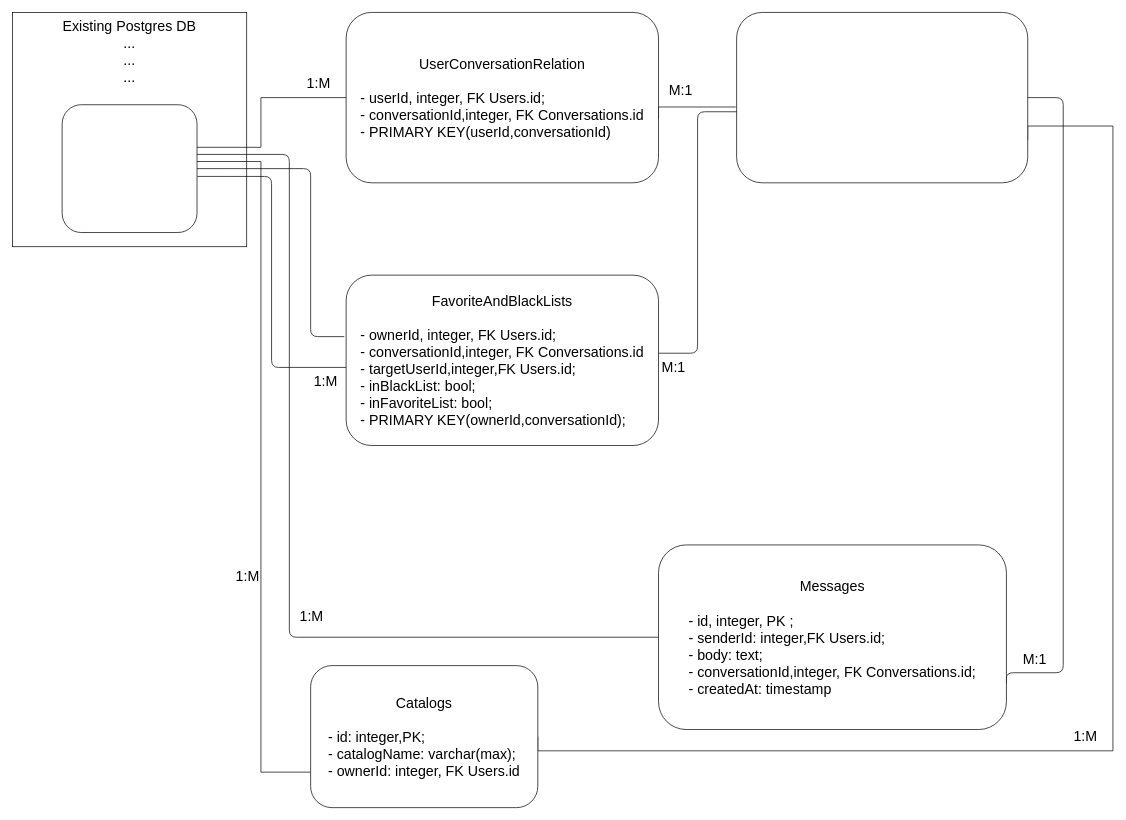
The diagram is 1126 pixels wide and 820 high, and some of its shapes have lost their labels. Each missing label, with the centre of its shape:
"Conversations - id: integer, PK; - catalogId: integer, FK Catalogs.id;" belongs at point (882, 97).
"Users -id:integer, PK ... ... ..." belongs at point (129, 168).
